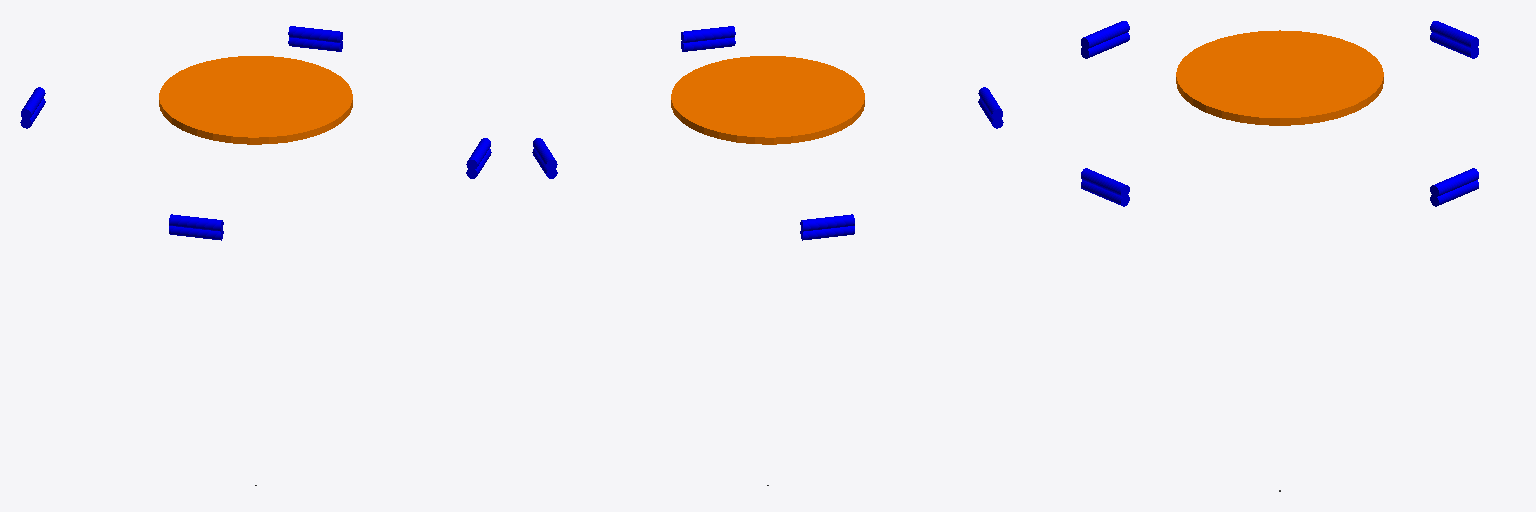
robot.urdf — pingu_v3:
<?xml version="1.0" ?>
<!-- =================================================================================== -->
<!-- |    This document was autogenerated by xacro from /mnt/c/Users/ricard.marsal/Documents/GitHub/UniLuFP/ros_ws/install/pingu_description/share/pingu_description/urdf/pingu_v3.urdf.xacro | -->
<!-- |    EDITING THIS FILE BY HAND IS NOT RECOMMENDED                                 | -->
<!-- =================================================================================== -->
<robot name="pingu_v3">
 <material name="levion_black">
  <color rgba="0.3 0.3 0.3 1.0"/>
 </material>
 <material name="orange">
  <color rgba="1.0 0.5 0.0 1.0"/>
 </material>
 <material name="elec_blue">
  <color rgba="0.0 0.0 1.0 1.0"/>
 </material>
 <!-- World Link -->
 <link name="world"/>
 <!-- Joins and Links for Floating -->
 <link name="anchor_link">
  <visual>
   <geometry>
    <box size="0.001 0.001 0.001"/>
   </geometry>
   <material name="levion_black"/>
   <origin rpy="0 0 0" xyz="0 0 0"/>
  </visual>
  <collision>
   <geometry>
    <box size="0.001 0.001 0.001"/>
   </geometry>
   <origin rpy="0 0 0" xyz="0 0 0"/>
  </collision>
  <inertial>
   <mass value="0.0001"/>
   <origin rpy="0 0 0" xyz="0 0 0"/>
   <inertia ixx="0.0001" ixy="0" ixz="0" iyy="0.0001" iyz="0" izz="0.0001"/>
  </inertial>
 </link>
 <joint name="anchor_joint" type="fixed">
  <origin rpy="0 0 0" xyz="0 0 0.2"/>
  <parent link="world"/>
  <child link="anchor_link"/>
 </joint>
 <link name="x_lock_link">
  <visual>
   <geometry>
    <box size="0.001 0.001 0.001"/>
   </geometry>
   <material name="levion_black"/>
   <origin rpy="0 0 0" xyz="0 0 0"/>
  </visual>
  <collision>
   <geometry>
    <box size="0.001 0.001 0.001"/>
   </geometry>
   <origin rpy="0 0 0" xyz="0 0 0"/>
  </collision>
  <inertial>
   <mass value="0.0001"/>
   <origin rpy="0 0 0" xyz="0 0 0"/>
   <inertia ixx="0.0001" ixy="0" ixz="0" iyy="0.0001" iyz="0" izz="0.0001"/>
  </inertial>
 </link>
 <joint name="x_lock_joint" type="prismatic">
  <origin rpy="0 0 0" xyz="0 0 0"/>
  <parent link="anchor_link"/>
  <child link="x_lock_link"/>
  <axis xyz="1 0 0"/>
  <limit effort="10.0" lower="-10" upper="10" velocity="10"/>
 </joint>
 <link name="y_lock_link">
  <visual>
   <geometry>
    <box size="0.001 0.001 0.001"/>
   </geometry>
   <material name="levion_black"/>
   <origin rpy="0 0 0" xyz="0 0 0"/>
  </visual>
  <collision>
   <geometry>
    <box size="0.001 0.001 0.001"/>
   </geometry>
   <origin rpy="0 0 0" xyz="0 0 0"/>
  </collision>
  <inertial>
   <mass value="0.0001"/>
   <origin rpy="0 0 0" xyz="0 0 0"/>
   <inertia ixx="0.0001" ixy="0" ixz="0" iyy="0.0001" iyz="0" izz="0.0001"/>
  </inertial>
 </link>
 <joint name="y_lock_joint" type="prismatic">
  <origin rpy="0 0 0" xyz="0 0 0"/>
  <parent link="x_lock_link"/>
  <child link="y_lock_link"/>
  <axis xyz="0 1 0"/>
  <limit effort="10.0" lower="-10" upper="10" velocity="10"/>
 </joint>
 <!-- Base Join and Link-->
 <joint name="base_joint" type="revolute">
  <origin rpy="0 0 0" xyz="0 0 0.1"/>
  <parent link="y_lock_link"/>
  <child link="base_link"/>
  <axis xyz="0 0 1"/>
  <limit effort="10.0" lower="-10" upper="10" velocity="10"/>
  <!-- <dynamics damping="0.5" friction="0.0"/> -->
 </joint>
 <link name="base_link">
  <visual>
   <geometry>
    <mesh filename="package://pingu_description/mesh/base_link.stl" scale="0.001 0.001 0.001"/>
   </geometry>
   <material name="levion_black"/>
   <origin rpy="0 0 0" xyz="0 0 0"/>
  </visual>
  <collision>
   <geometry>
    <mesh filename="package://pingu_description/mesh/base_link.stl" scale="0.001 0.001 0.001"/>
   </geometry>
   <origin rpy="0 0 0" xyz="0 0 0"/>
   <!-- 0 0 0.3276 for box -->
  </collision>
  <inertial>
   <mass value="23.0"/>
   <origin rpy="0 0 0" xyz="0 0 0.3276"/>
   <inertia ixx="0.7" ixy="0" ixz="0" iyy="0.7" iyz="0" izz="0.5"/>
  </inertial>
 </link>
 <!-- Base Link -->
 <link name="rw_base"/>
 <joint name="rw_base_joint" type="fixed">
  <origin rpy="0 0 0" xyz="0 0 .2875"/>
  <parent link="base_link"/>
  <child link="rw_base"/>
 </joint>
 <!-- Middle Link -->
 <link name="rw_rotor">
  <visual>
   <origin rpy="0 0 0" xyz="0 0 0"/>
   <geometry>
    <cylinder length="0.008" radius="0.1"/>
   </geometry>
   <material name="orange"/>
  </visual>
  <inertial>
   <origin rpy="0 0 0" xyz="0 0 0"/>
   <mass value="2.0"/>
   <inertia ixx="0.06" ixy="0.0" ixz="0.0" iyy="0.06" iyz="0.0" izz="0.1"/>
  </inertial>
 </link>
 <joint name="rw_revolute_joint" type="revolute">
  <parent link="rw_base"/>
  <child link="rw_rotor"/>
  <origin rpy="0 0 0" xyz="0 0 0.05"/>
  <axis xyz="0 0 1"/>
  <limit effort="10.0" lower="-1e9" upper="1e9" velocity="100"/>
  <dynamics damping="0.5" friction="0.5"/>
 </joint>
 <!-- Middle Fix Link -->
 <!-- <link name="${prefix}rw_fixed_rotor"></link>

  <joint name="${prefix}rw_fixed_joint" type="fixed">
    <parent link="${prefix}rw_base"/>
    <child link="${prefix}rw_fixed_rotor"/>
    <origin xyz="0 0 0.05" rpy="0 0 0"/>
    <axis xyz="0 0 1"/>
    <limit effort="10.0" lower="-1e9" upper="1e9" velocity="100"/>
    <dynamics damping="0.5" friction="0.5"/>
  </joint> -->
 <!-- Left Arm description -->
 <!-- <xacro:levion_arm parent="base_link" prefix="$(arg prefix)" left_right="left">
    <origin xyz="0.26 0 .3475" rpy="0 0 0" />
  </xacro:levion_arm> -->
 <!-- Right Arm description -->
 <!-- <xacro:levion_arm parent="base_link" prefix="$(arg prefix)" left_right="right">
    <origin xyz="0 -0.26 .3475" rpy="0 0 ${-PI/2}" />
  </xacro:levion_arm> -->
 <!-- Base Link -->
 <link name="thruster_1_link">
  <visual>
   <origin rpy="0 0 0" xyz="0 0 0"/>
   <geometry>
    <cylinder length="0.055" radius="0.006"/>
   </geometry>
   <material name="elec_blue"/>
  </visual>
  <parent link="base_link"/>
  <origin rpy="1.57079632675 0 -0.785398163375" xyz="-0.168 0.168 0.295"/>
 </link>
 <joint name="thruster_1_joint" type="fixed">
  <parent link="base_link"/>
  <child link="thruster_1_link"/>
  <origin rpy="1.57079632675 0 -0.785398163375" xyz="-0.168 0.168 0.295"/>
 </joint>
 <!-- Base Link -->
 <link name="thruster_2_link">
  <visual>
   <origin rpy="0 0 0" xyz="0 0 0"/>
   <geometry>
    <cylinder length="0.055" radius="0.006"/>
   </geometry>
   <material name="elec_blue"/>
  </visual>
  <parent link="base_link"/>
  <origin rpy="1.57079632675 0 -0.785398163375" xyz="-0.168 0.168 0.305"/>
 </link>
 <joint name="thruster_2_joint" type="fixed">
  <parent link="base_link"/>
  <child link="thruster_2_link"/>
  <origin rpy="1.57079632675 0 -0.785398163375" xyz="-0.168 0.168 0.305"/>
 </joint>
 <!-- Base Link -->
 <link name="thruster_3_link">
  <visual>
   <origin rpy="0 0 0" xyz="0 0 0"/>
   <geometry>
    <cylinder length="0.055" radius="0.006"/>
   </geometry>
   <material name="elec_blue"/>
  </visual>
  <parent link="base_link"/>
  <origin rpy="1.57079632675 0 0.785398163375" xyz="0.168 0.168 0.295"/>
 </link>
 <joint name="thruster_3_joint" type="fixed">
  <parent link="base_link"/>
  <child link="thruster_3_link"/>
  <origin rpy="1.57079632675 0 0.785398163375" xyz="0.168 0.168 0.295"/>
 </joint>
 <!-- Base Link -->
 <link name="thruster_4_link">
  <visual>
   <origin rpy="0 0 0" xyz="0 0 0"/>
   <geometry>
    <cylinder length="0.055" radius="0.006"/>
   </geometry>
   <material name="elec_blue"/>
  </visual>
  <parent link="base_link"/>
  <origin rpy="1.57079632675 0 0.785398163375" xyz="0.168 0.168 0.305"/>
 </link>
 <joint name="thruster_4_joint" type="fixed">
  <parent link="base_link"/>
  <child link="thruster_4_link"/>
  <origin rpy="1.57079632675 0 0.785398163375" xyz="0.168 0.168 0.305"/>
 </joint>
 <!-- Base Link -->
 <link name="thruster_5_link">
  <visual>
   <origin rpy="0 0 0" xyz="0 0 0"/>
   <geometry>
    <cylinder length="0.055" radius="0.006"/>
   </geometry>
   <material name="elec_blue"/>
  </visual>
  <parent link="base_link"/>
  <origin rpy="1.57079632675 0 -0.785398163375" xyz="0.168 -0.168 0.305"/>
 </link>
 <joint name="thruster_5_joint" type="fixed">
  <parent link="base_link"/>
  <child link="thruster_5_link"/>
  <origin rpy="1.57079632675 0 -0.785398163375" xyz="0.168 -0.168 0.305"/>
 </joint>
 <!-- Base Link -->
 <link name="thruster_6_link">
  <visual>
   <origin rpy="0 0 0" xyz="0 0 0"/>
   <geometry>
    <cylinder length="0.055" radius="0.006"/>
   </geometry>
   <material name="elec_blue"/>
  </visual>
  <parent link="base_link"/>
  <origin rpy="1.57079632675 0 -0.785398163375" xyz="0.168 -0.168 0.295"/>
 </link>
 <joint name="thruster_6_joint" type="fixed">
  <parent link="base_link"/>
  <child link="thruster_6_link"/>
  <origin rpy="1.57079632675 0 -0.785398163375" xyz="0.168 -0.168 0.295"/>
 </joint>
 <!-- Base Link -->
 <link name="thruster_7_link">
  <visual>
   <origin rpy="0 0 0" xyz="0 0 0"/>
   <geometry>
    <cylinder length="0.055" radius="0.006"/>
   </geometry>
   <material name="elec_blue"/>
  </visual>
  <parent link="base_link"/>
  <origin rpy="1.57079632675 0 0.785398163375" xyz="-0.168 -0.168 0.305"/>
 </link>
 <joint name="thruster_7_joint" type="fixed">
  <parent link="base_link"/>
  <child link="thruster_7_link"/>
  <origin rpy="1.57079632675 0 0.785398163375" xyz="-0.168 -0.168 0.305"/>
 </joint>
 <!-- Base Link -->
 <link name="thruster_8_link">
  <visual>
   <origin rpy="0 0 0" xyz="0 0 0"/>
   <geometry>
    <cylinder length="0.055" radius="0.006"/>
   </geometry>
   <material name="elec_blue"/>
  </visual>
  <parent link="base_link"/>
  <origin rpy="1.57079632675 0 0.785398163375" xyz="-0.168 -0.168 0.295"/>
 </link>
 <joint name="thruster_8_joint" type="fixed">
  <parent link="base_link"/>
  <child link="thruster_8_link"/>
  <origin rpy="1.57079632675 0 0.785398163375" xyz="-0.168 -0.168 0.295"/>
 </joint>
</robot>

--- What the picture shows (computed from the rendered views, not written in the file) ---
3 views of the same robot in one strip: view 1: azimuth 30°, elevation 25°; view 2: azimuth 150°, elevation 25°; view 3: azimuth 270°, elevation 25° (orthographic).
Model pingu_v3 with 15 links and 14 joints (2 revolute, 2 prismatic, 10 fixed), rooted at world, posed all joints at 0.
Visible links, largest first — view 1: rw_rotor, thruster_4_link, thruster_7_link; view 2: rw_rotor, thruster_5_link, thruster_2_link; view 3: rw_rotor, thruster_5_link, thruster_4_link, thruster_7_link, thruster_2_link.
Boxes of the visible links, x1,y1,x2,y2 form: rw_rotor: [159, 56, 352, 144]; thruster_4_link: [288, 26, 342, 42]; thruster_7_link: [169, 214, 223, 231]; rw_rotor: [671, 56, 864, 144]; thruster_5_link: [681, 26, 735, 42]; thruster_2_link: [800, 214, 854, 231]; rw_rotor: [1176, 30, 1383, 125]; thruster_5_link: [1081, 168, 1129, 196]; thruster_4_link: [1430, 168, 1478, 196]; thruster_7_link: [1081, 21, 1129, 48]; thruster_2_link: [1430, 21, 1478, 48].
Bounding box of the posed robot: 0.3834 × 0.3834 × 0.442 m (x, y, z).
Meshes: 1 distinct files referenced, 0 mesh visuals loaded (none loaded); not drawn: 1 (file found but could not be loaded).
